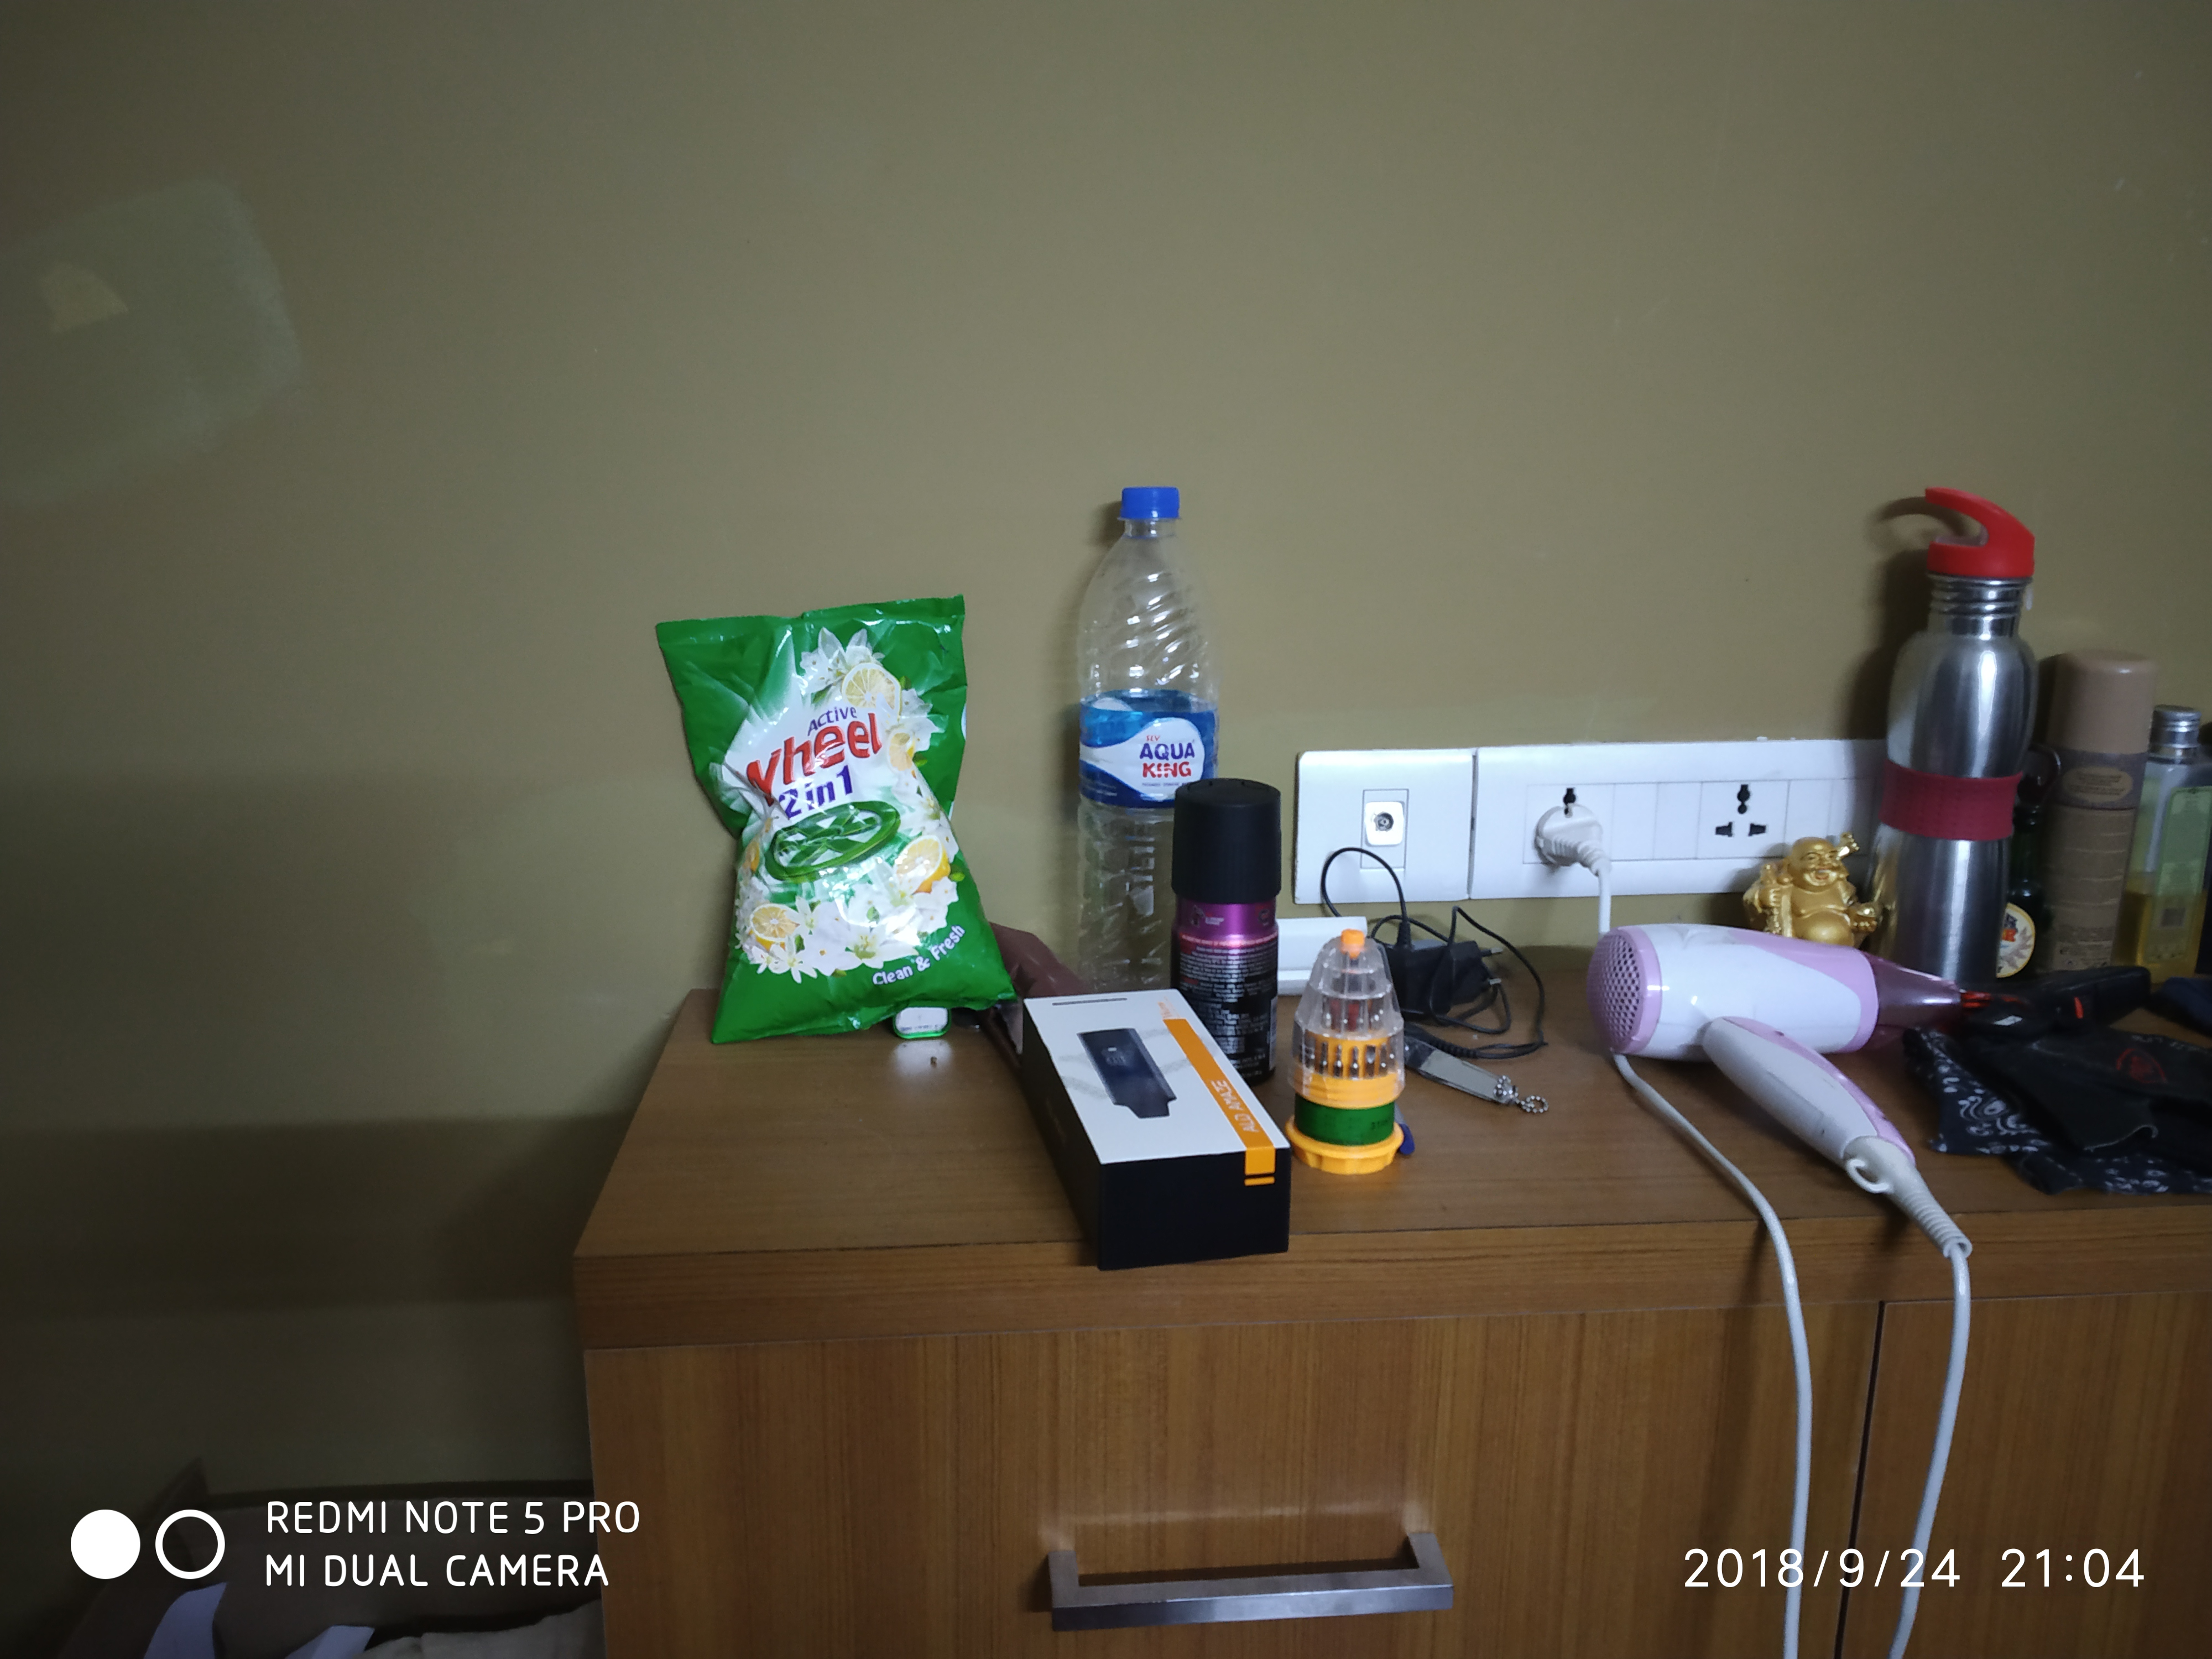detergent: (642, 593, 1034, 1045)
